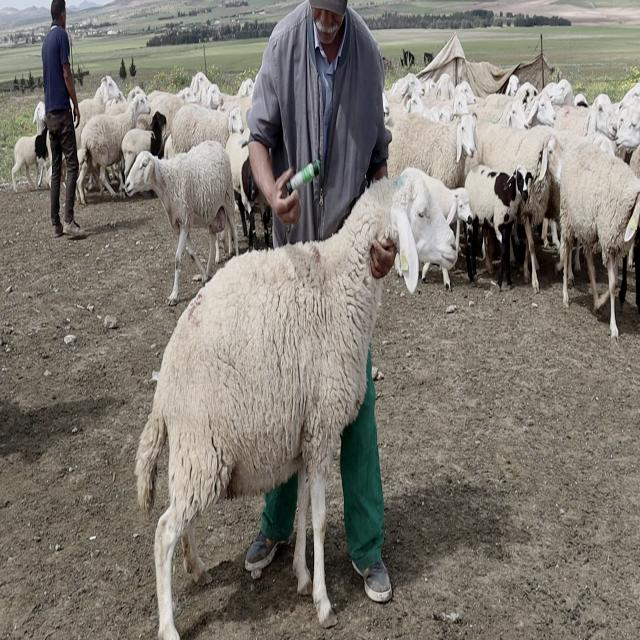Score_5: (135, 168, 457, 639)
